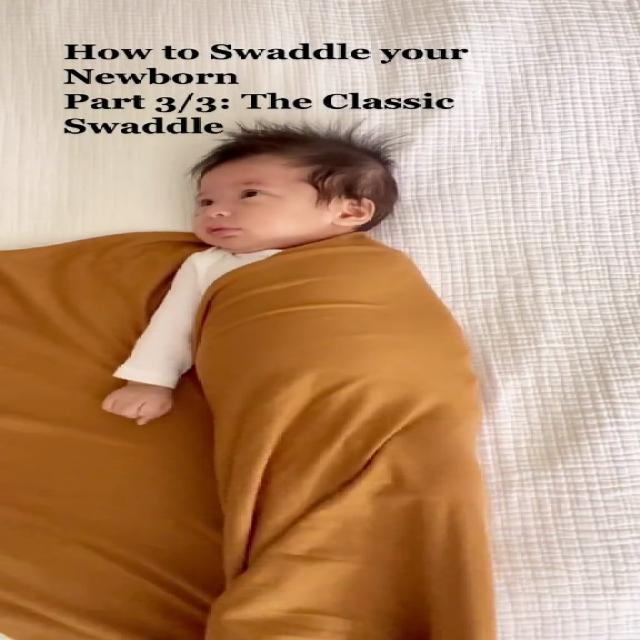baby: (101, 130, 499, 640)
